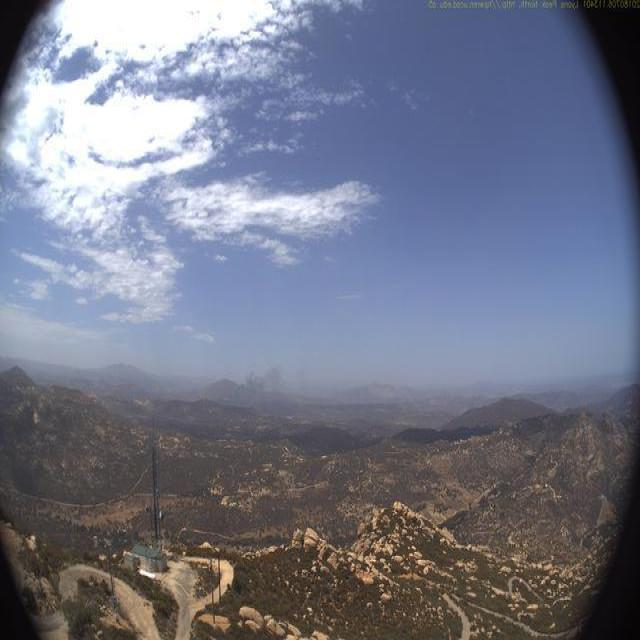Smoke: (237, 353, 285, 403)
